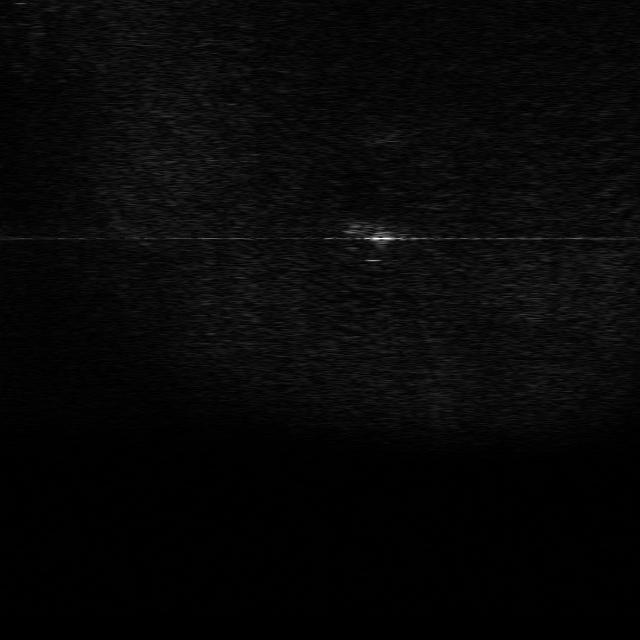plane: (339, 214, 400, 250)
